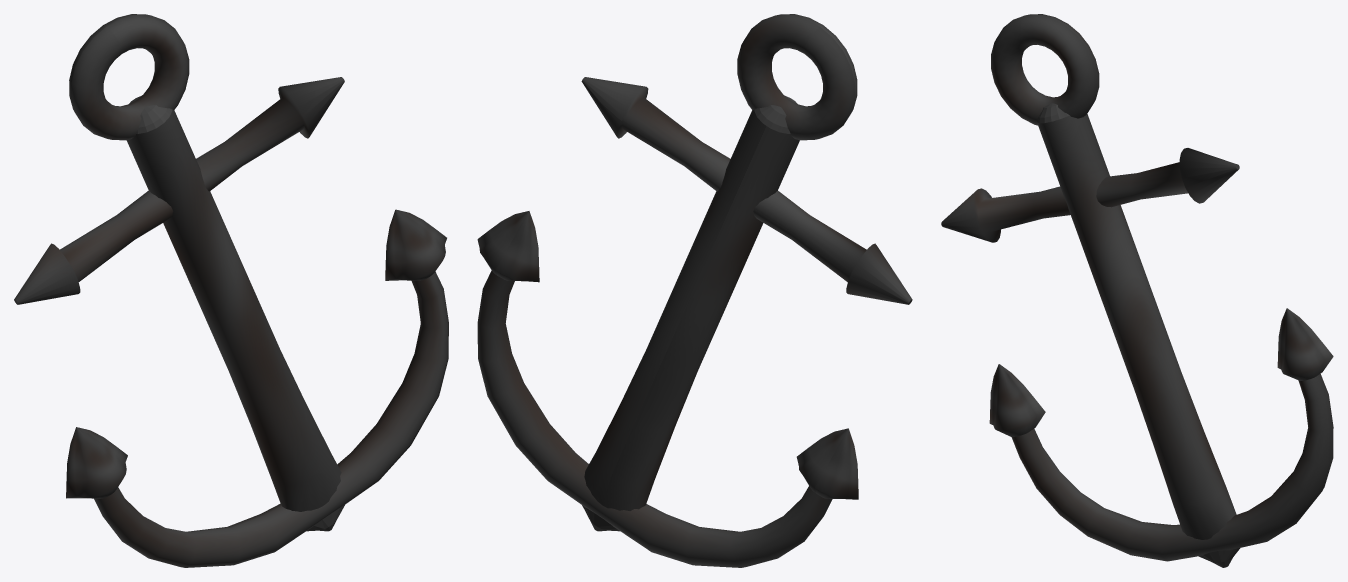
File: anchor_model.fbx
3 renders of one model, left to right at view 1: azimuth 30°, elevation 25°; view 2: azimuth 150°, elevation 25°; view 3: azimuth 330°, elevation 25°, orthographic. The views are drawn at different scales.
Visible parts, largest first — view 1: Cylinder001, Torus001, Cylinder002, Torus002, Cone001, Cone002; view 2: Cylinder001, Torus001, Cylinder002, Torus002, Cone001, Cone002; view 3: Cylinder001, Torus001, Cylinder002, Torus002, Cone001, Cone002.
Boxes of the visible parts, x1=… form: Cylinder001: x1=126, y1=96, x2=344, y2=531; Torus001: x1=94, y1=271, x2=448, y2=567; Cylinder002: x1=14, y1=77, x2=344, y2=304; Torus002: x1=69, y1=14, x2=189, y2=140; Cone001: x1=66, y1=427, x2=127, y2=498; Cone002: x1=385, y1=209, x2=446, y2=280; Cylinder001: x1=582, y1=96, x2=799, y2=531; Torus001: x1=477, y1=270, x2=832, y2=567; Cylinder002: x1=581, y1=77, x2=912, y2=304; Torus002: x1=737, y1=14, x2=857, y2=140; Cone001: x1=796, y1=428, x2=858, y2=499; Cone002: x1=477, y1=211, x2=539, y2=282; Cylinder001: x1=1037, y1=103, x2=1240, y2=567; Torus001: x1=1011, y1=374, x2=1333, y2=561; Cylinder002: x1=941, y1=148, x2=1239, y2=242; Torus002: x1=991, y1=14, x2=1099, y2=125; Cone001: x1=989, y1=364, x2=1045, y2=436; Cone002: x1=1277, y1=308, x2=1333, y2=380.
Bounding box in the file's own units: 26.82 × 33.83 × 2.95.
1 material, 1 textured.
